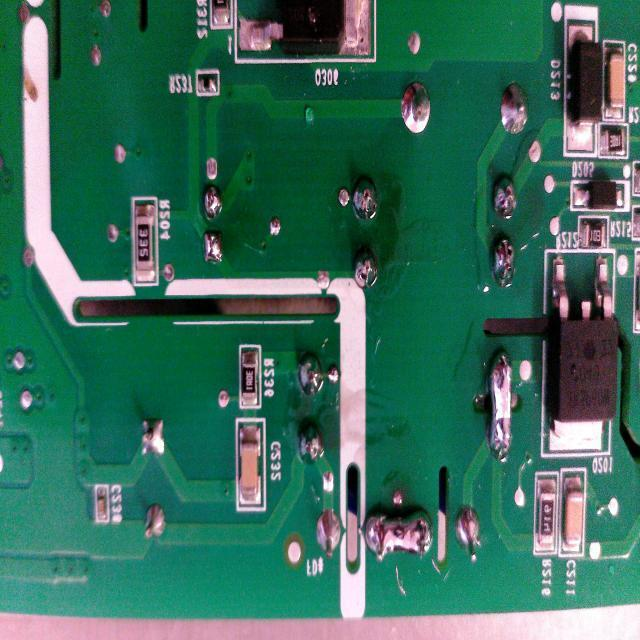Soldering bridge: (360, 504, 436, 565), (487, 346, 515, 464)
